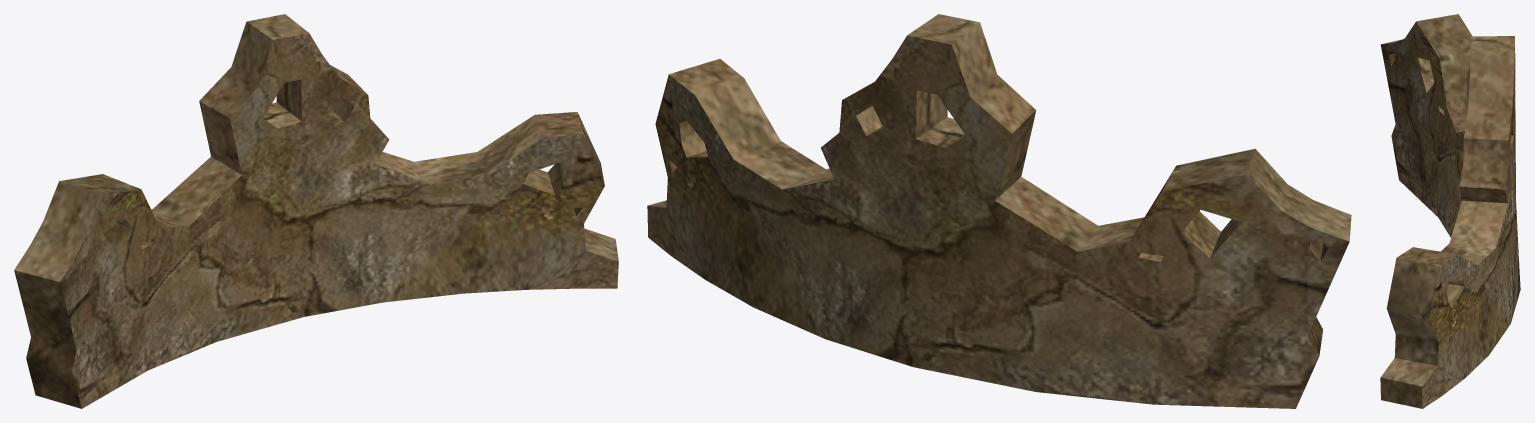
Rendered from double_04.fbx.
The picture shows the model from 3 angles, left to right: view 1: azimuth 30°, elevation 25°; view 2: azimuth 150°, elevation 25°; view 3: azimuth 270°, elevation 25°; orthographic projection. The views are drawn at different scales.
Visible parts, largest first — view 1: objdouble_04; view 2: objdouble_04; view 3: objdouble_04.
Part boxes in pixels (box(x1,y1,x2,y2)): objdouble_04: box(14, 14, 618, 408); objdouble_04: box(647, 14, 1351, 408); objdouble_04: box(1380, 14, 1520, 408).
Size of the model in its own units: 6.64 by 2.97 by 1.56.
